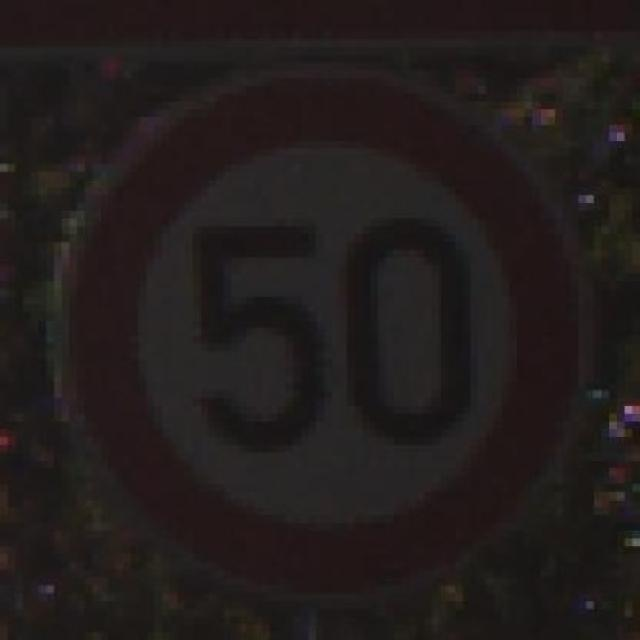forb_speed_over_50: (57, 74, 585, 588)
